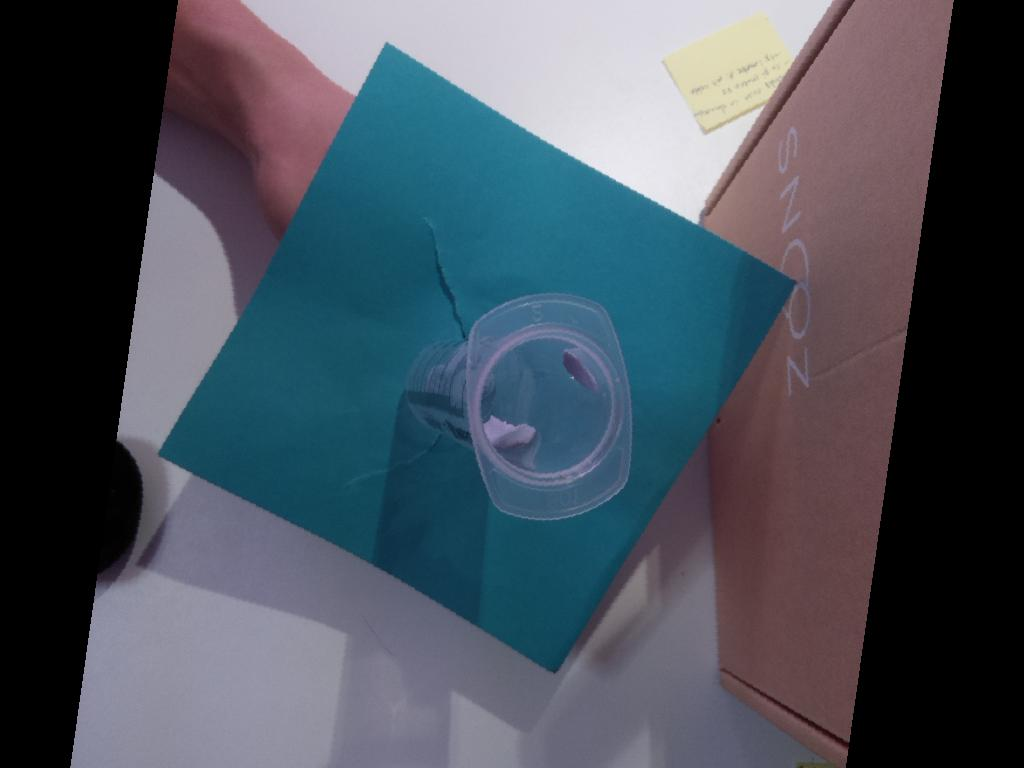dirty: (467, 293, 633, 521)
